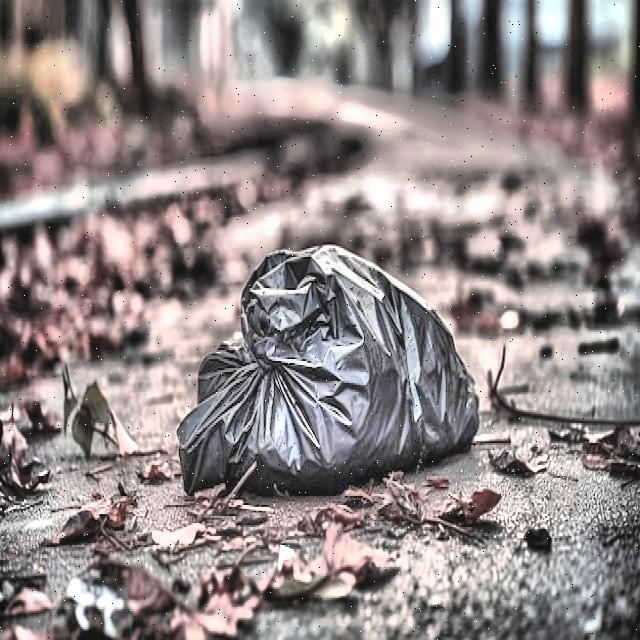Trashbag: (174, 232, 486, 504)
